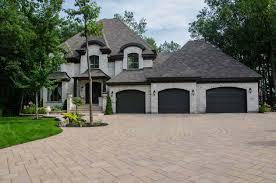casa: (29, 13, 260, 114)
